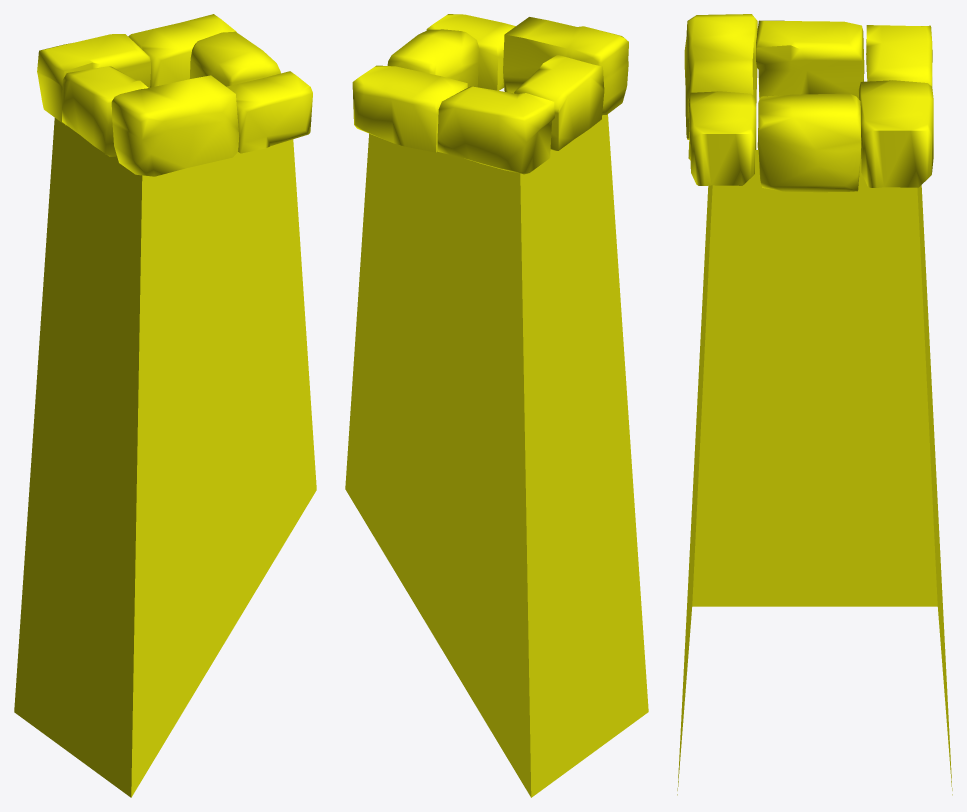
The model's file is Prop_Chimney.glb.
3 renders of one model, left to right at view 1: azimuth 30°, elevation 25°; view 2: azimuth 150°, elevation 25°; view 3: azimuth 270°, elevation 25°, orthographic. The views are drawn at different scales.
Parts seen in each view (by area): view 1: Prop_Chimney; view 2: Prop_Chimney; view 3: Prop_Chimney.
Boxes of the visible parts, left/top/right/bottom form: Prop_Chimney: left=14, top=14, right=316, bottom=797; Prop_Chimney: left=345, top=14, right=648, bottom=797; Prop_Chimney: left=677, top=14, right=952, bottom=795.
Size of the model in its own units: 0.9458 by 3.18 by 1.
Materials: 2 (2 with a texture image).
